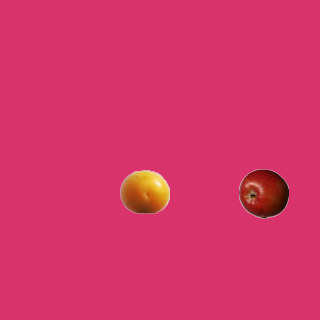Apple Braeburn: (238, 168, 288, 218)
Cherry Wax Yellow: (119, 166, 169, 216)
